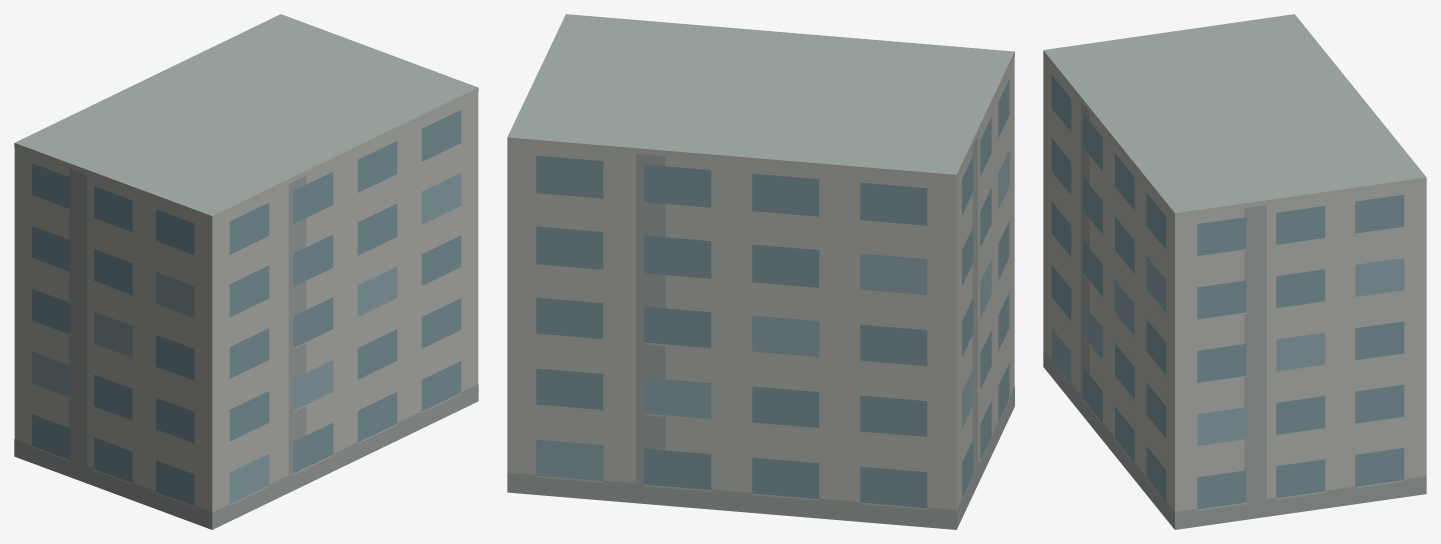
The model's file is survey-upis-33026896.glb.
The picture shows the model from 3 angles, left to right: view 1: azimuth 30°, elevation 25°; view 2: azimuth 150°, elevation 25°; view 3: azimuth 270°, elevation 25°; orthographic projection. The views are drawn at different scales.
Visible parts, largest first — view 1: survey-upis-33026896.tmp; view 2: survey-upis-33026896.tmp; view 3: survey-upis-33026896.tmp.
Part boxes in pixels (box(x1,y1,x2,y2)): survey-upis-33026896.tmp: box(14, 14, 478, 529); survey-upis-33026896.tmp: box(507, 14, 1014, 529); survey-upis-33026896.tmp: box(1043, 14, 1426, 529).
Bounding box in the file's own units: 21.2 × 15.7 × 17.24.
